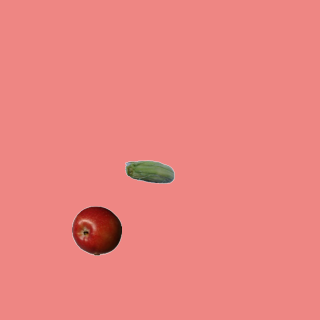Apple Braeburn: (71, 205, 121, 255)
Corn Husk: (124, 148, 174, 198)
